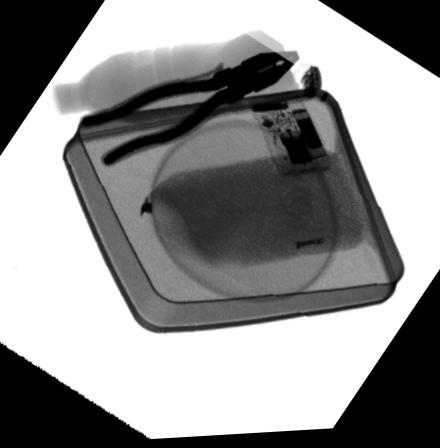Pliers: (78, 52, 302, 169)
